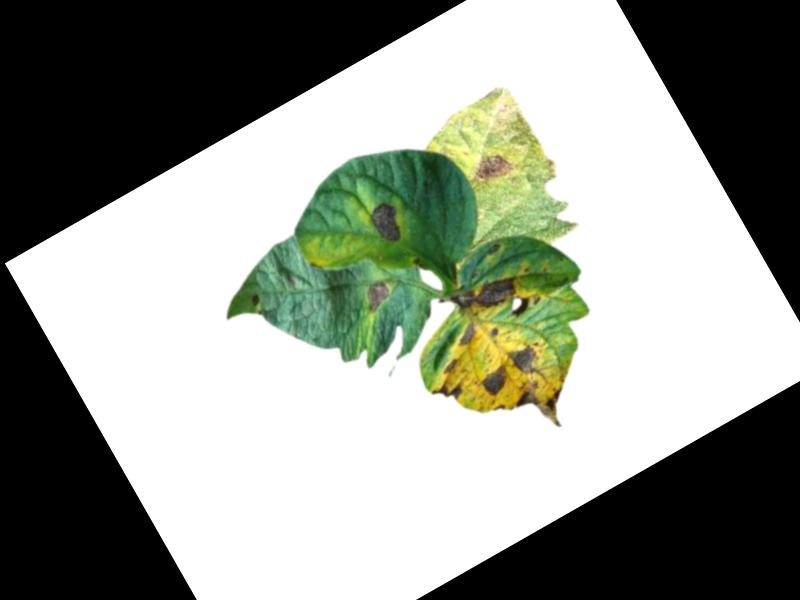Early_blight: (510, 366, 579, 440), (447, 261, 523, 325), (362, 196, 409, 249), (466, 145, 515, 191), (503, 335, 550, 381), (472, 361, 515, 401), (356, 274, 396, 314), (428, 374, 468, 411), (450, 319, 483, 350), (438, 356, 461, 375), (246, 292, 262, 307), (487, 325, 499, 337)
